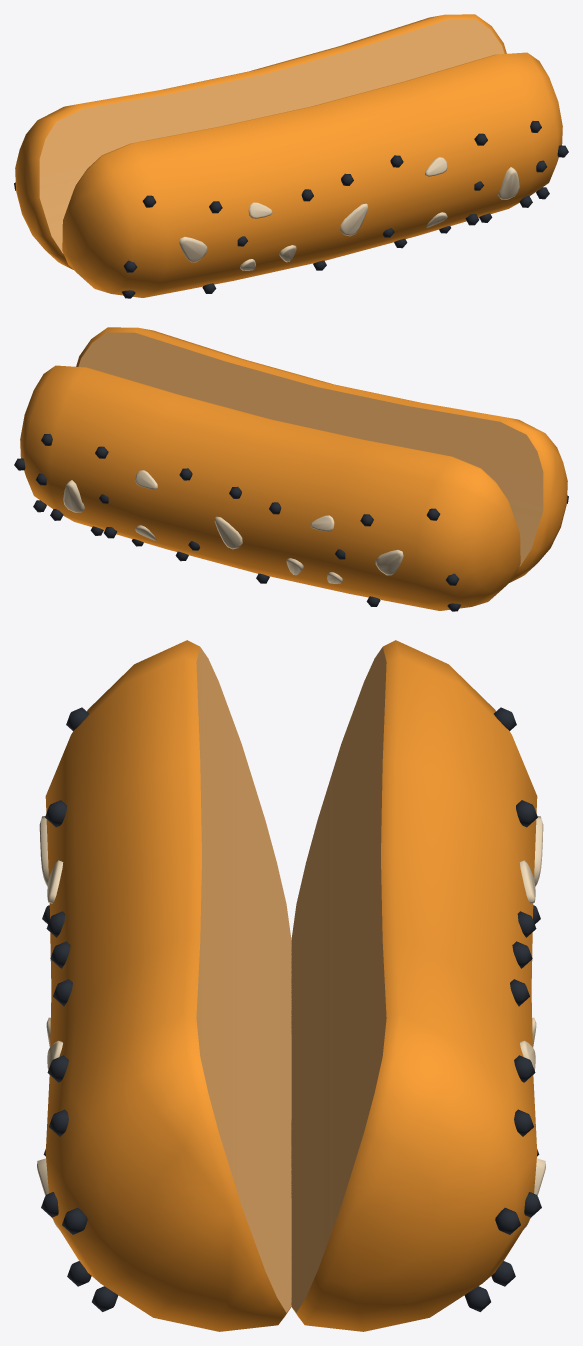
File: HotDog_bun_with_seeds.002.fbx
3 views of the same model, one above another, from view 1: azimuth 30°, elevation 25°; view 2: azimuth 150°, elevation 25°; view 3: azimuth 270°, elevation 25° (orthographic). The views are drawn at different scales.
Parts seen in each view (by area): view 1: HotDog_bun_with_seeds.002; view 2: HotDog_bun_with_seeds.002; view 3: HotDog_bun_with_seeds.002.
Part boxes in pixels (x1,y1,x2,y2): HotDog_bun_with_seeds.002: (14,14,568,298); HotDog_bun_with_seeds.002: (14,327,568,611); HotDog_bun_with_seeds.002: (37,640,545,1331).
Size of the model in its own units: 153 by 69.97 by 49.72.
